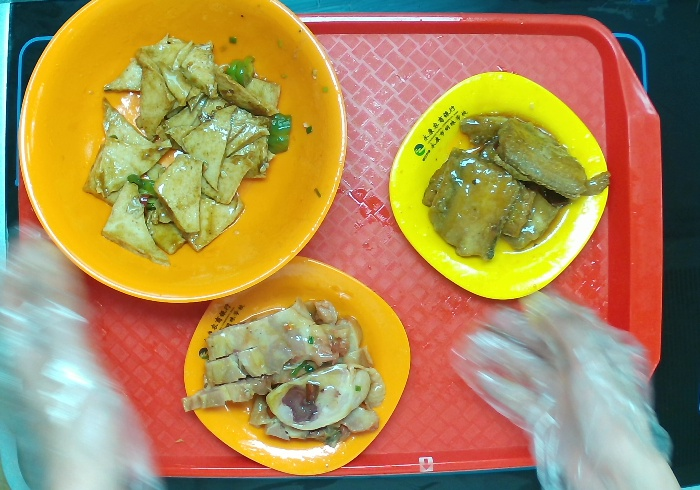YKMZ-Huang_Se_Fang_Die: (387, 70, 611, 303)
YKMZ-Ju_Se_Fang_Die: (181, 253, 414, 477)
YKMZ-Ju_Se_Tang_Wan: (17, 1, 349, 306)
